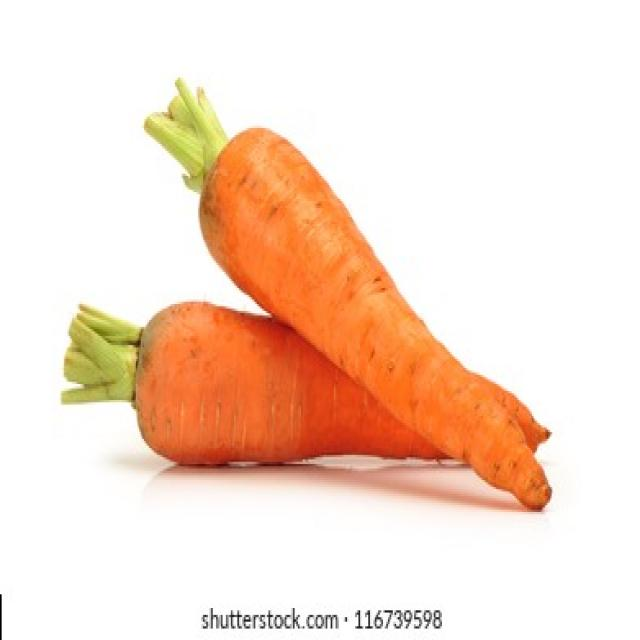Carrot: (200, 121, 558, 498), (144, 306, 554, 492)
